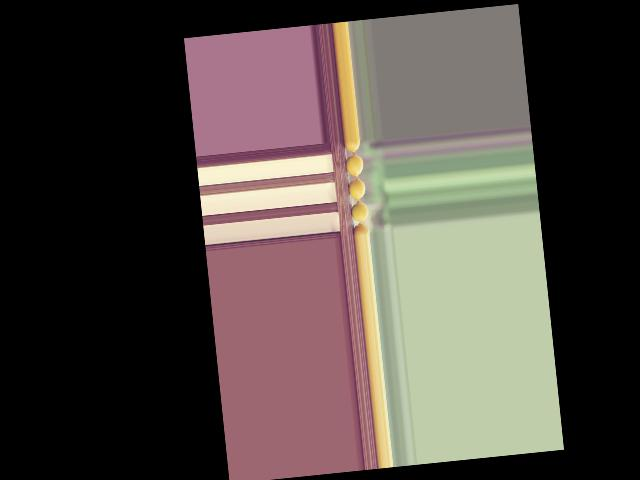lemon: (344, 140, 361, 152)
